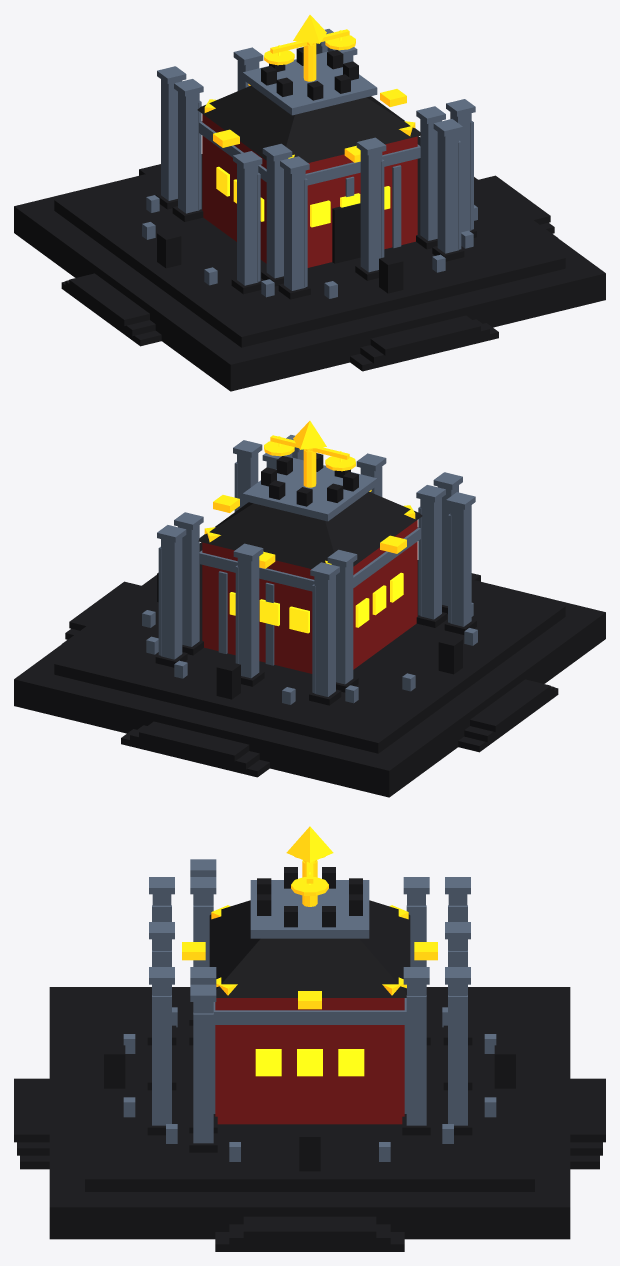
File: ulpa_hq.glb
3 views of the same model, one above another, from view 1: azimuth 30°, elevation 25°; view 2: azimuth 150°, elevation 25°; view 3: azimuth 270°, elevation 25° (orthographic). The views are drawn at different scales.
Visible parts, largest first — view 1: ULPA_PedestalTop, ULPA_Pedestal, ULPA_RoofPyramid, ULPA_CouncilHall, ULPA_RoofDeck, ULPA_Pillar_6, ULPA_Pillar_8, ULPA_Pillar_1, ULPA_Pillar_4, ULPA_Pillar_10, ULPA_Stair_0_2, ULPA_Pillar_0 (+16 smaller); view 2: ULPA_PedestalTop, ULPA_Pedestal, ULPA_CouncilHall, ULPA_RoofPyramid, ULPA_RoofDeck, ULPA_Pillar_7, ULPA_Pillar_0, ULPA_Pillar_5, ULPA_Pillar_9, ULPA_Pillar_10, ULPA_Stair_1_2, ULPA_Pillar_1 (+16 smaller); view 3: ULPA_PedestalTop, ULPA_Pedestal, ULPA_CouncilHall, ULPA_RoofPyramid, ULPA_RoofDeck, ULPA_Stair_3_2, ULPA_HallBand, ULPA_PillarFlute_11, ULPA_PillarFlute_3, ULPA_PillarFlute_8, ULPA_PillarFlute_9, ULPA_Stair_0_2 (+13 smaller).
Part boxes in pixels (x1,y1,x2,y2): ULPA_PedestalTop: (54,158,565,347); ULPA_Pedestal: (14,136,605,391); ULPA_RoofPyramid: (197,86,421,162); ULPA_CouncilHall: (202,114,417,267); ULPA_RoofDeck: (242,51,377,115); ULPA_Pillar_6: (360,150,382,272); ULPA_Pillar_8: (437,132,458,253); ULPA_Pillar_1: (178,92,199,213); ULPA_Pillar_4: (284,169,305,290); ULPA_Pillar_10: (237,164,258,285); ULPA_Stair_0_2: (370,315,480,355); ULPA_Pillar_0: (266,157,288,278); ULPA_PedestalTop: (54,564,565,753); ULPA_Pedestal: (14,542,605,797); ULPA_CouncilHall: (202,520,417,673); ULPA_RoofPyramid: (198,492,422,568); ULPA_RoofDeck: (242,457,377,521); ULPA_Pillar_7: (237,556,259,678); ULPA_Pillar_0: (420,498,441,619); ULPA_Pillar_5: (314,575,335,696); ULPA_Pillar_9: (161,538,182,659); ULPA_Pillar_10: (450,505,471,626); ULPA_Stair_1_2: (139,721,249,761); ULPA_Pillar_1: (331,563,353,684); ULPA_PedestalTop: (85,989,534,1191); ULPA_Pedestal: (49,987,570,1239); ULPA_CouncilHall: (215,998,404,1124); ULPA_RoofPyramid: (209,900,410,997); ULPA_RoofDeck: (250,880,369,938); ULPA_Stair_3_2: (243,1216,376,1239); ULPA_HallBand: (213,998,406,1024); ULPA_PillarFlute_11: (193,1012,213,1143); ULPA_PillarFlute_3: (406,995,426,1125); ULPA_PillarFlute_8: (152,995,171,1125); ULPA_PillarFlute_9: (448,995,467,1125); ULPA_Stair_0_2: (14,1078,49,1142).
Size of the model in its own units: 20 by 11.3 by 20.
